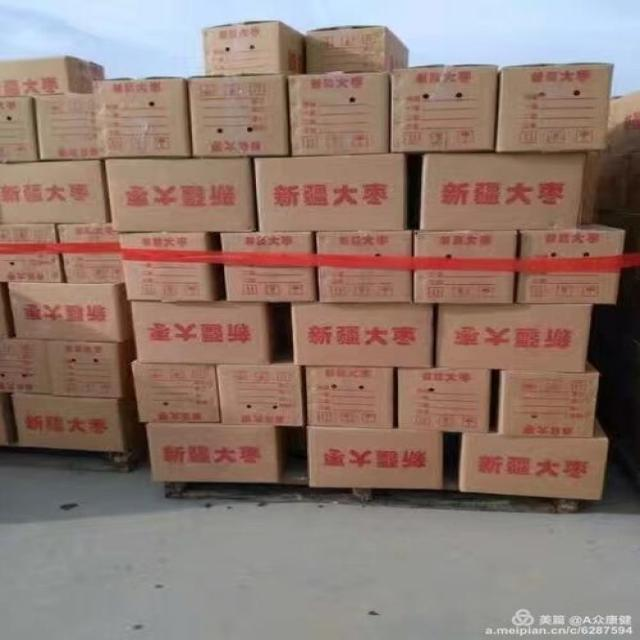box: (410, 152, 584, 229), (100, 154, 264, 235), (456, 417, 608, 500), (255, 155, 413, 232), (436, 303, 595, 373), (125, 297, 292, 363), (490, 65, 612, 152), (388, 64, 498, 158), (142, 422, 303, 482), (291, 303, 439, 368), (406, 220, 518, 303), (285, 69, 385, 157), (516, 224, 627, 303), (186, 73, 288, 158), (305, 429, 443, 491), (115, 231, 227, 302), (4, 394, 141, 452), (216, 228, 323, 302), (314, 229, 417, 303), (4, 282, 134, 340), (97, 79, 189, 158), (493, 369, 595, 438), (4, 163, 113, 225), (393, 368, 500, 431), (134, 361, 227, 427), (306, 367, 397, 431), (221, 365, 308, 430), (209, 23, 308, 78), (50, 343, 137, 401), (29, 94, 102, 163), (306, 31, 406, 78), (0, 56, 105, 97), (0, 220, 69, 282), (58, 226, 125, 284), (0, 96, 50, 161), (0, 339, 56, 394)
